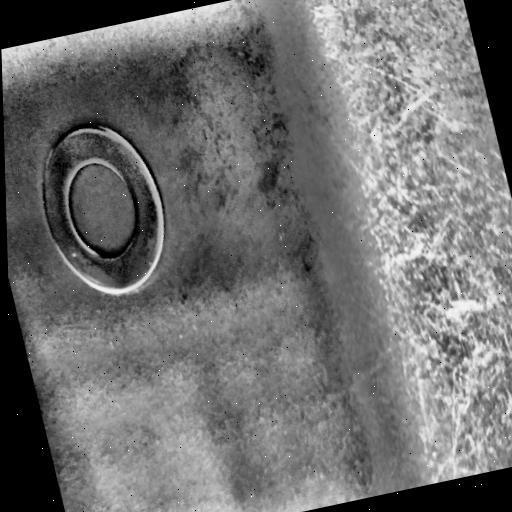Bolt: (65, 158, 139, 259)
Washer: (41, 124, 167, 296)
